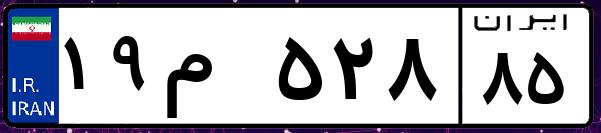1: (57, 26, 110, 100)
2: (330, 28, 385, 110)
5: (270, 28, 330, 110), (525, 38, 570, 115)
8: (385, 28, 445, 110), (475, 38, 525, 113)
9: (110, 28, 158, 98)
م: (158, 20, 270, 120)
